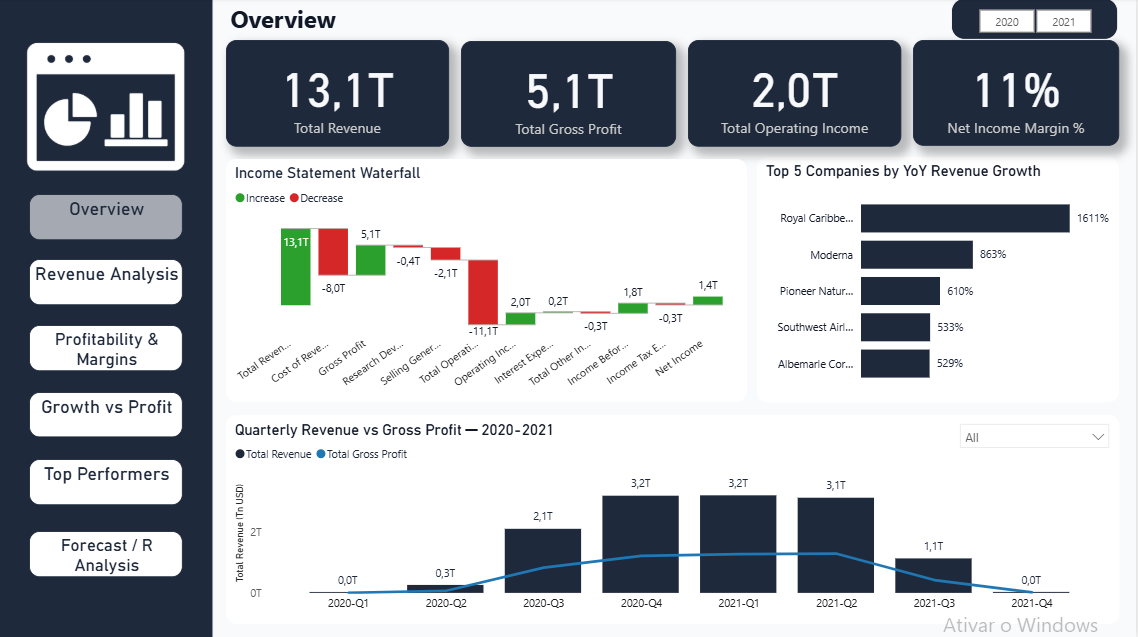

Layout of this report page (visuals, bound fields, positions):
{"tool":"powerbi","page":{"name":"Overview","canvas":[1280,720],"ordinal":0},"visuals":[{"type":"clusteredBarChart","title":"Top 5 Companies by YoY Revenue Growth ","fields":{"Category":["FinancialData.firm"],"Y":["#Measures.Revenue YoY Delta %"]},"box":[852.8,178.9,407.2,275.6],"z":0},{"type":"actionButton","title":"Overview","box":[33.5,220.5,173.1,51.9],"z":0,"group":"g1"},{"type":"card","title":"Top 10 YoY Revenue Growth","fields":{"Values":["#Measures.Total Revenue"]},"box":[255.4,47.2,250.9,120.4],"z":1000},{"type":"card","title":"Top 10 YoY Revenue Growth","fields":{"Values":["#Measures.Total Operating Income"]},"box":[774.9,47.2,240,120.4],"z":2000},{"type":"card","title":"Top 10 YoY Revenue Growth","fields":{"Values":["#Measures.Net Income Margin %"]},"box":[1028.2,47.2,231.8,119.2],"z":3000},{"type":"card","title":"Top 10 YoY Revenue Growth","fields":{"Values":["#Measures.Total Gross Profit"]},"box":[519.6,48.4,241.9,119.2],"z":4000},{"type":"lineClusteredColumnComboChart","title":"Quarterly Revenue vs Gross Profit  ─ 2020-2021","fields":{"Category":["DimCalendar.YearQuarter"],"Y":["#Measures.Total Revenue"],"Y2":["#Measures.Total Gross Profit"]},"box":[255.4,469.1,1004.6,235.1],"z":5000},{"type":"waterfallChart","title":"Income Statement Waterfall","fields":{"Category":["Income Statement Steps.Step"],"Y":["Income Statement Steps.Waterfall Value"]},"box":[255.4,181.1,586.1,273.4],"z":6000},{"type":"slicer","fields":{"Values":["FinancialData.Year"]},"box":[1071.1,0,188.1,47.3],"z":7000},{"type":"actionButton","title":"Forecast / R Analysis","box":[33.8,599.6,173.2,51.8],"z":8000},{"type":"actionButton","title":"Top Performers","box":[33.8,518.6,173.2,51.8],"z":9000},{"type":"actionButton","title":"Growth vs Profit","box":[33.8,443.2,173.2,51],"z":10000},{"type":"actionButton","title":"Profitability & Margins","box":[33.8,367.9,173.2,51.8],"z":11000},{"type":"actionButton","title":"Revenue Analysis","box":[33.8,293.6,173.2,51.8],"z":12000},{"type":"actionButton","title":"Overview","box":[33.8,220.5,173.2,51.8],"z":13000},{"type":"group","id":"g1","title":"Active Buttons","box":[33.5,220.5,173.4,430.6],"z":14000},{"type":"textbox","box":[255.1,0,300.1,65.8],"z":15000},{"type":"slicer","fields":{"Values":["FinancialData.Ticker"]},"box":[1071.1,468.6,188.1,49.6],"z":16001}]}

Visuals, with their boxes on the page's 1280x720 design canvas (x1, y1, x2, y2). These are canvas units, not pixel positions in the 1138x637 screenshot, which may show the page scaled, cropped or inside an application window:
"Top 5 Companies by YoY Revenue Growth " clusteredBarChart: rect(853, 179, 1260, 454)
"Overview" actionButton: rect(34, 220, 207, 272)
"Top 10 YoY Revenue Growth" card: rect(255, 47, 506, 168)
"Top 10 YoY Revenue Growth" card: rect(775, 47, 1015, 168)
"Top 10 YoY Revenue Growth" card: rect(1028, 47, 1260, 166)
"Top 10 YoY Revenue Growth" card: rect(520, 48, 762, 168)
"Quarterly Revenue vs Gross Profit  ─ 2020-2021" lineClusteredColumnComboChart: rect(255, 469, 1260, 704)
"Income Statement Waterfall" waterfallChart: rect(255, 181, 842, 454)
slicer - FinancialData.Year: rect(1071, 0, 1259, 47)
"Forecast / R Analysis" actionButton: rect(34, 600, 207, 651)
"Top Performers" actionButton: rect(34, 519, 207, 570)
"Growth vs Profit" actionButton: rect(34, 443, 207, 494)
"Profitability & Margins" actionButton: rect(34, 368, 207, 420)
"Revenue Analysis" actionButton: rect(34, 294, 207, 345)
"Overview" actionButton: rect(34, 220, 207, 272)
"Active Buttons" group: rect(34, 220, 207, 651)
textbox: rect(255, 0, 555, 66)
slicer - FinancialData.Ticker: rect(1071, 469, 1259, 518)
